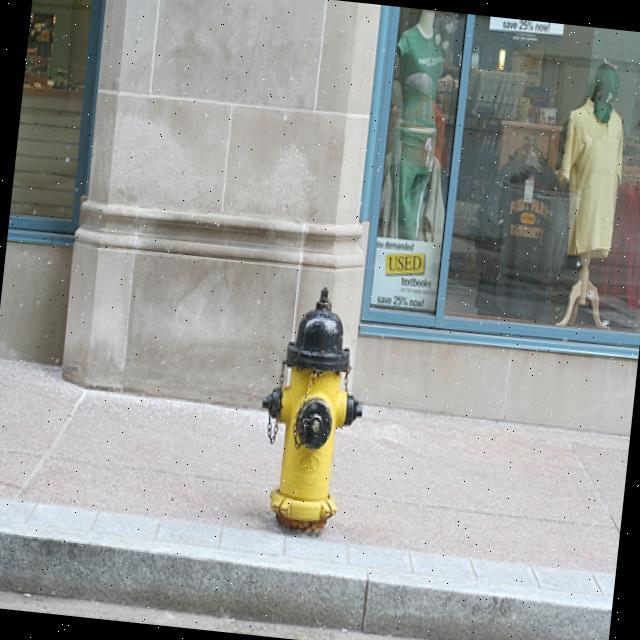fire_hydrant: (248, 282, 374, 530)
